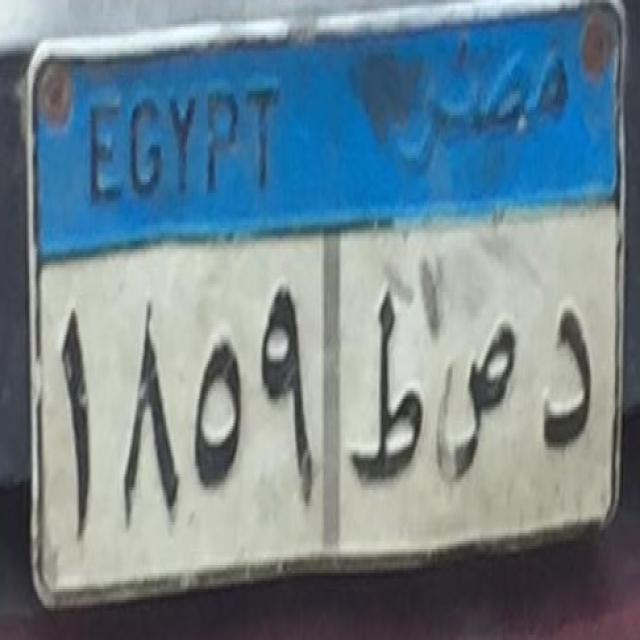1: (52, 290, 108, 556)
5: (184, 310, 256, 510)
8: (114, 285, 188, 558)
9: (245, 286, 334, 518)
Saad: (426, 294, 531, 496)
Taa: (333, 282, 443, 504)
daal: (531, 296, 607, 470)
